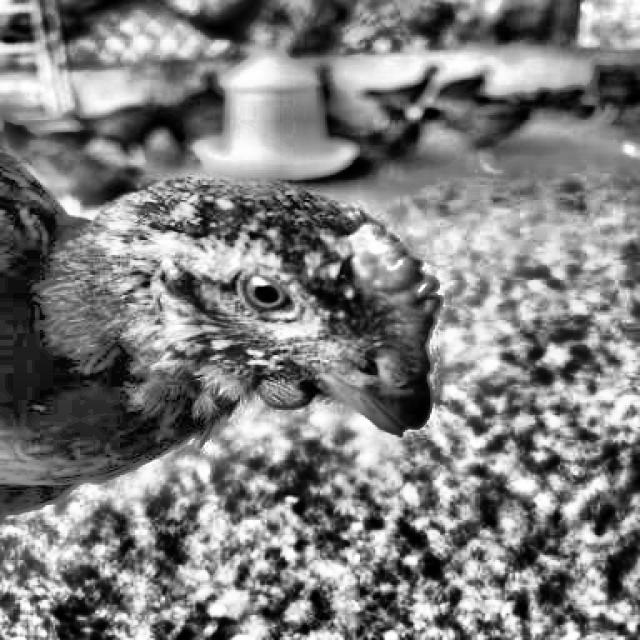Healthy: (232, 255, 300, 335)
